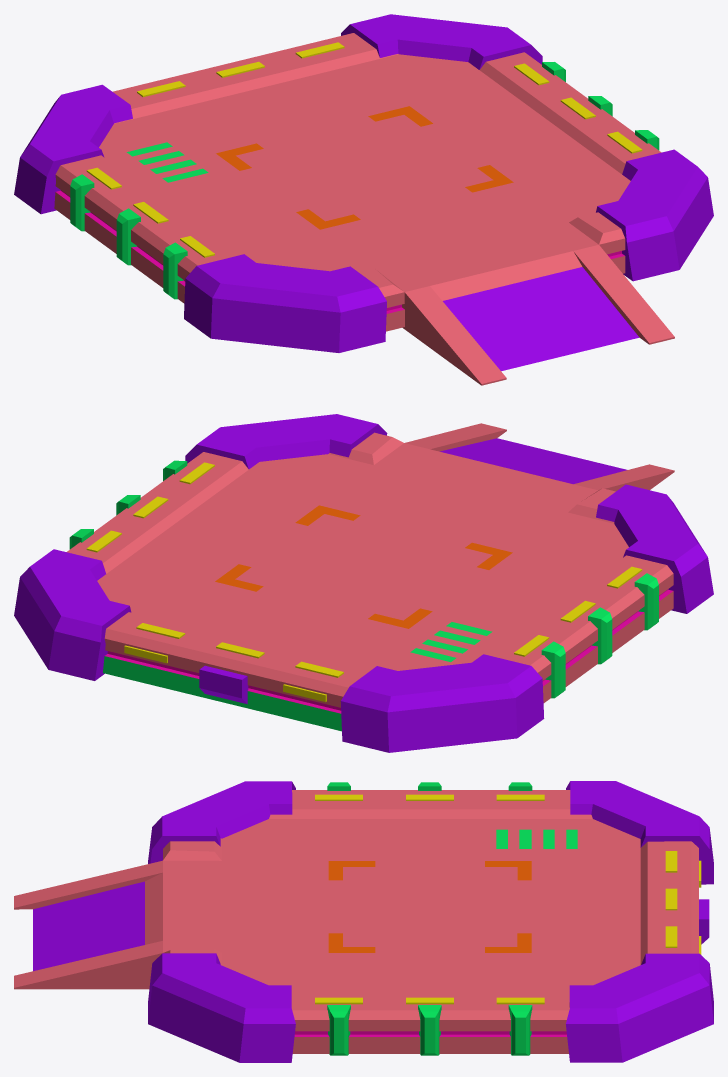
File: decoration-helipad.fbx
3 views of the same model, one above another, from view 1: azimuth 30°, elevation 25°; view 2: azimuth 150°, elevation 25°; view 3: azimuth 270°, elevation 25° (orthographic). The views are drawn at different scales.
Parts seen in each view (by area): view 1: decoration-helipad; view 2: decoration-helipad; view 3: decoration-helipad.
Part boxes in pixels (<box>): decoration-helipad: <box>14,14,713,385</box>; decoration-helipad: <box>14,414,713,752</box>; decoration-helipad: <box>14,781,713,1062</box>.
Size of the model in its own units: 19.01 by 1.81 by 23.5.
